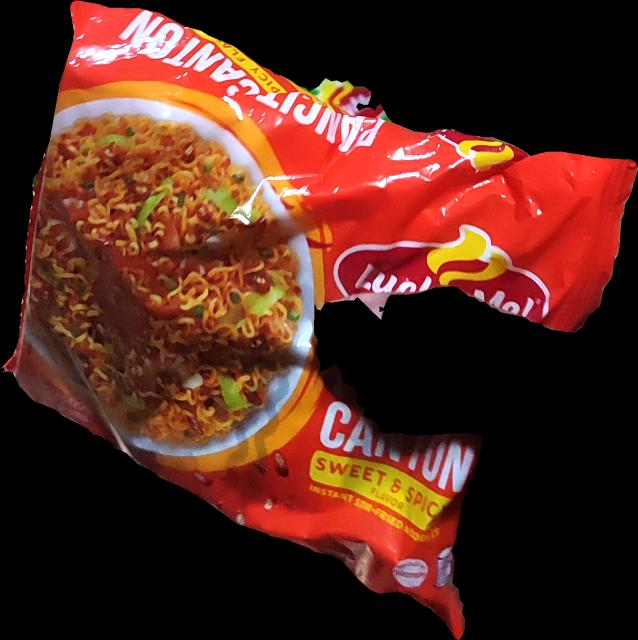pancit canton sweet and spicy: (1, 0, 638, 640)
